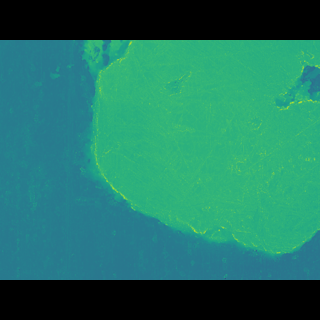Loch: (75, 70, 320, 237)
